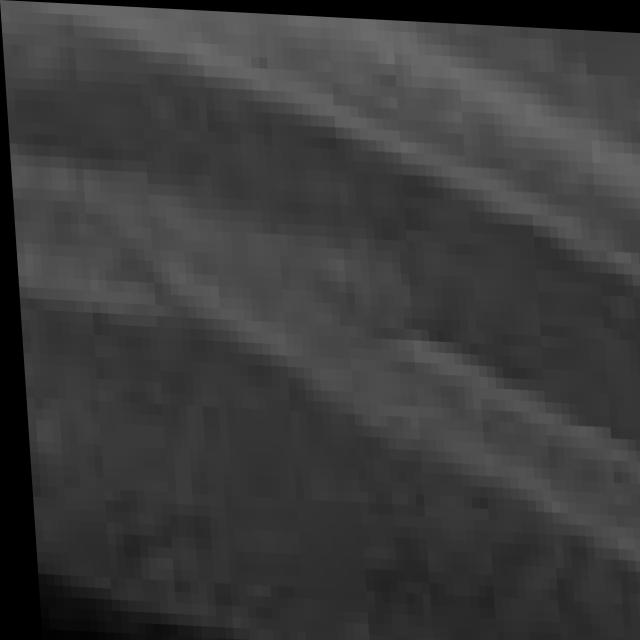fracture: (23, 12, 640, 640)
